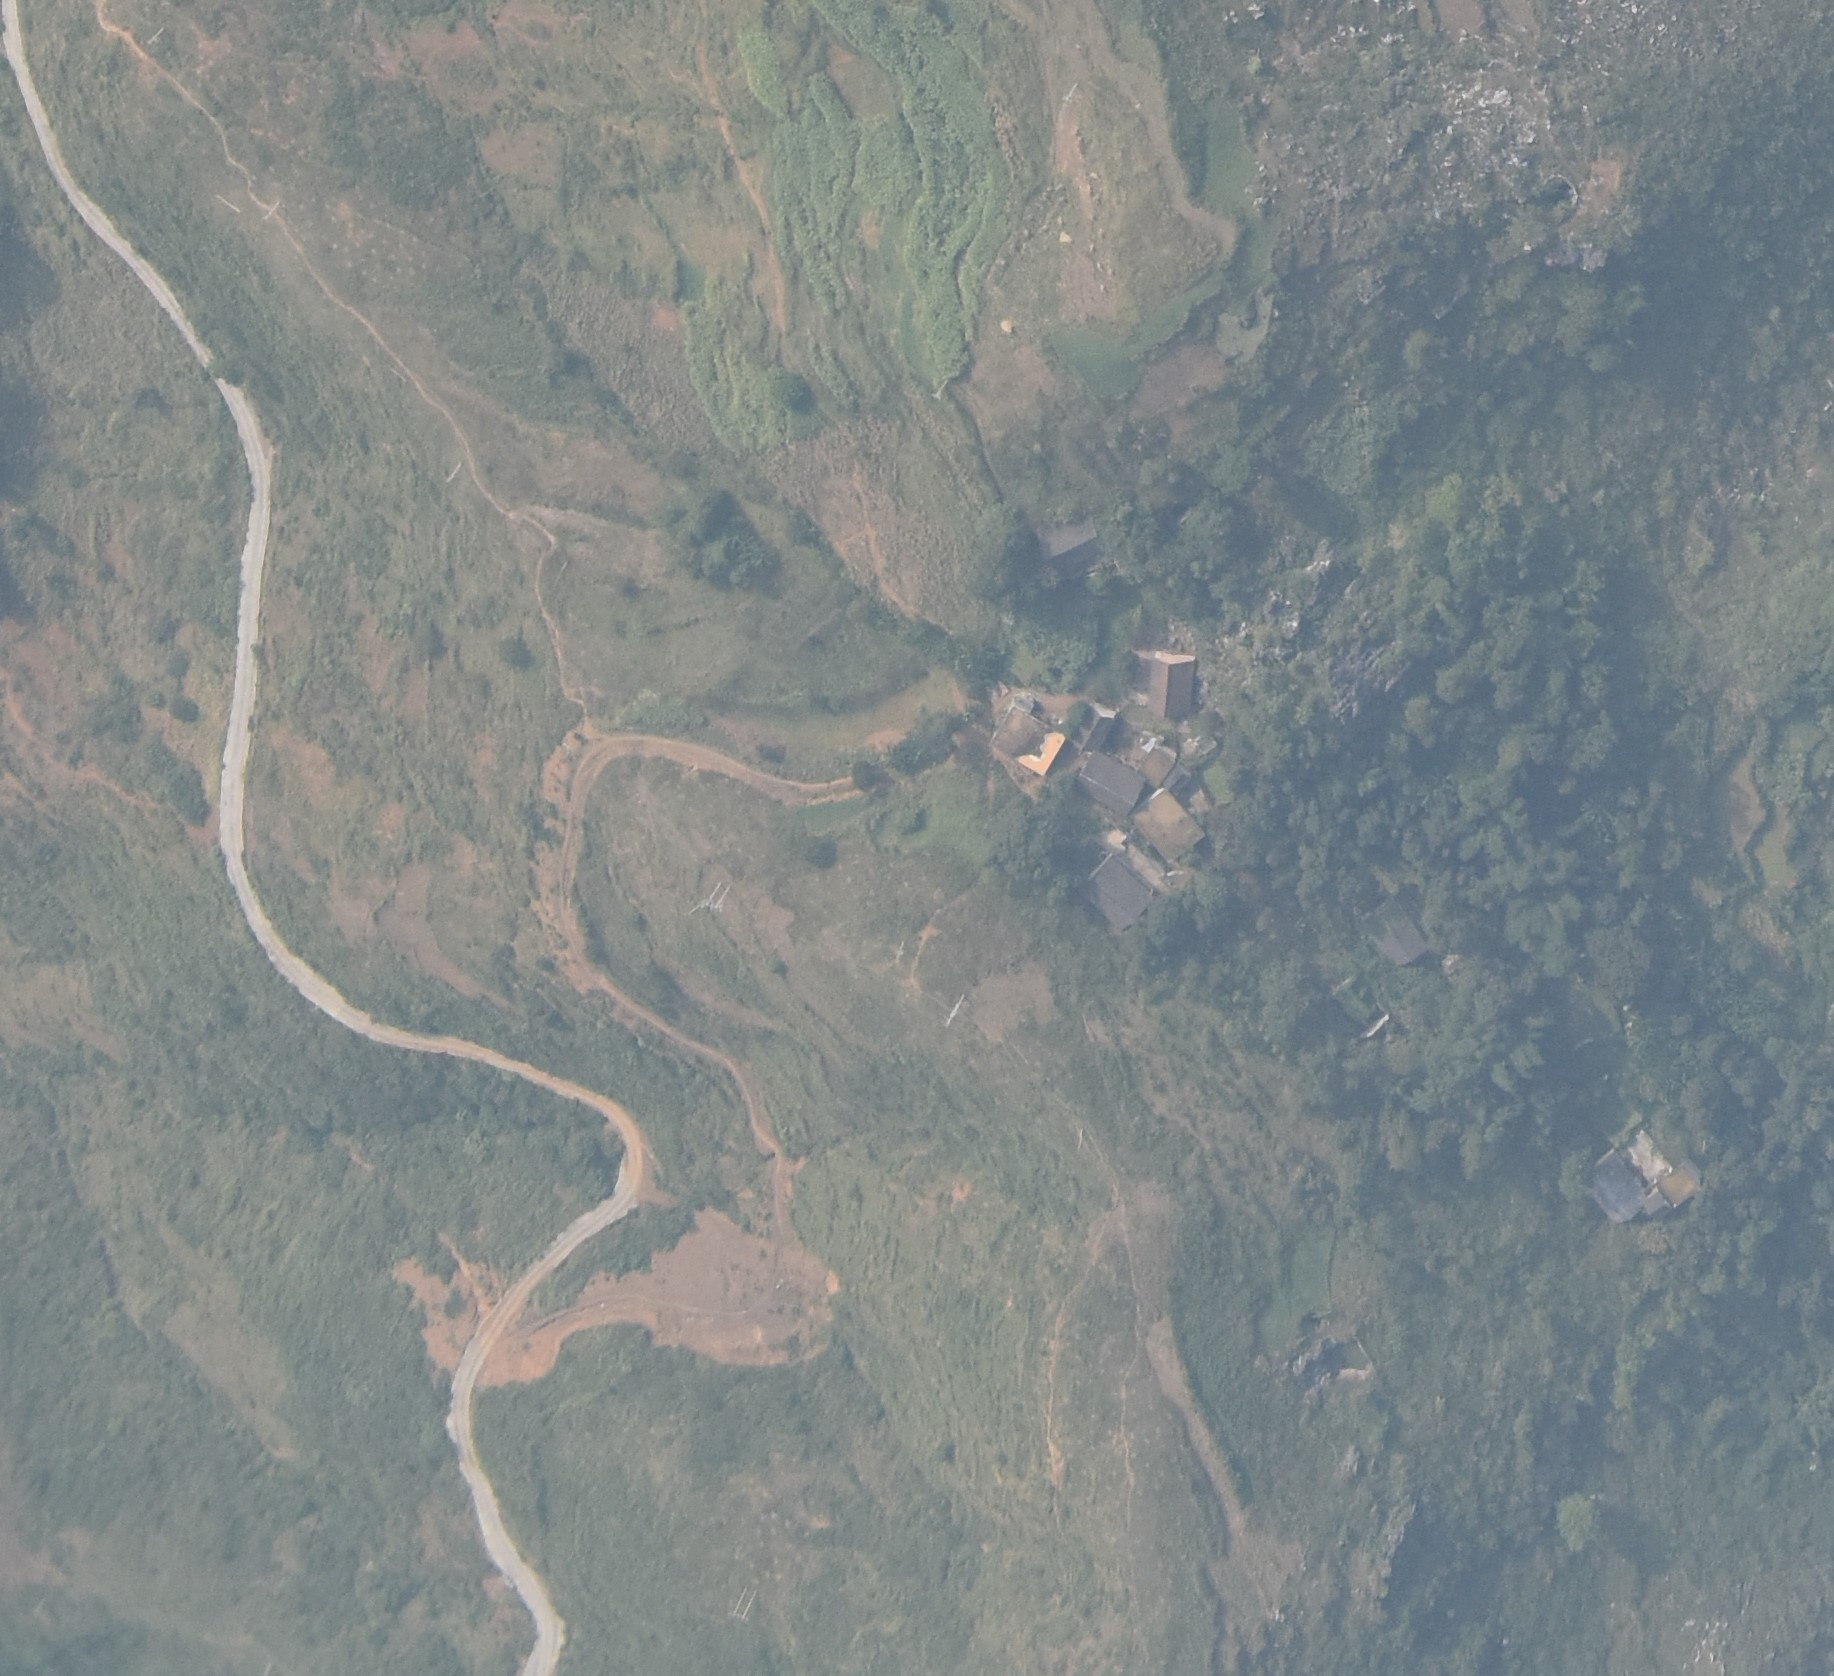building: (1128, 790, 1203, 864), (1076, 856, 1155, 925), (1359, 895, 1428, 970), (1585, 1149, 1643, 1221), (1076, 753, 1145, 811), (1146, 649, 1193, 720), (1072, 704, 1116, 747), (1166, 764, 1191, 799), (1640, 1187, 1669, 1213)
cable-tower: (690, 882, 731, 916), (943, 995, 964, 1027), (260, 200, 282, 224), (145, 26, 163, 48), (446, 459, 460, 485)
